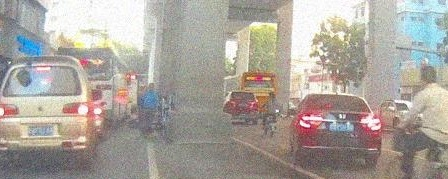L_light: (298, 115, 322, 128), (0, 103, 18, 116)
R_light: (63, 102, 91, 113), (360, 118, 381, 130)
T_light: (36, 66, 51, 70), (334, 96, 343, 97)
day-brake: (0, 55, 94, 166), (295, 93, 382, 166)
